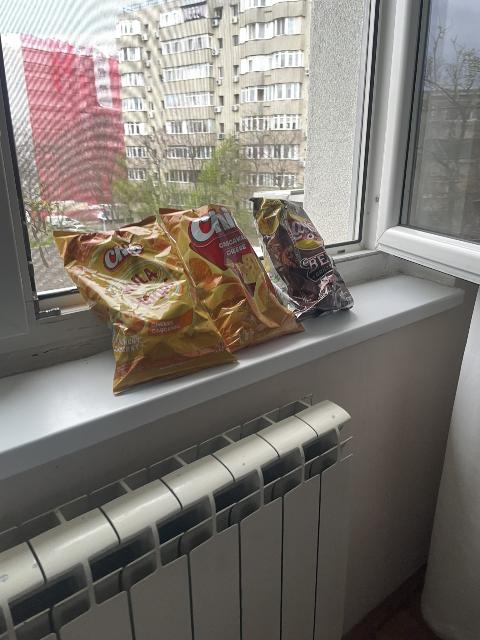Chio Cascaval 125g: (159, 200, 306, 355)
Chio Hula Hoops Cheese 70g: (49, 215, 239, 398)
Lays Beef Grilled Ribs 125g: (253, 196, 350, 319)
